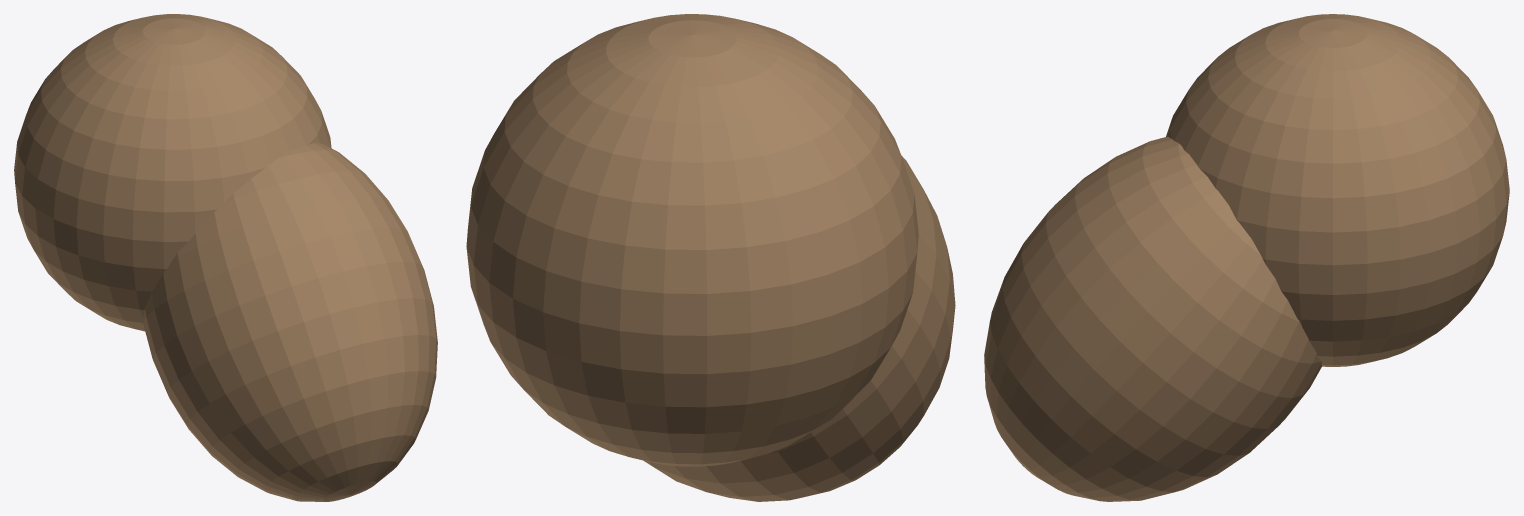
Rendered from BicepIzq_Jugador.obj.
The picture shows the model from 3 angles, left to right: view 1: azimuth 30°, elevation 25°; view 2: azimuth 150°, elevation 25°; view 3: azimuth 270°, elevation 25°; orthographic projection. The views are drawn at different scales.
Parts seen in each view (by area): view 1: BicepIzq_Jugador; view 2: BicepIzq_Jugador; view 3: BicepIzq_Jugador.
Part boxes in pixels (x1,y1,x2,y2): BicepIzq_Jugador: (14, 14, 437, 501); BicepIzq_Jugador: (466, 14, 955, 501); BicepIzq_Jugador: (984, 14, 1509, 501).
Size of the model in its own units: 1.25 by 1.57 by 1.71.
Materials: 1 (1 with a texture image).
